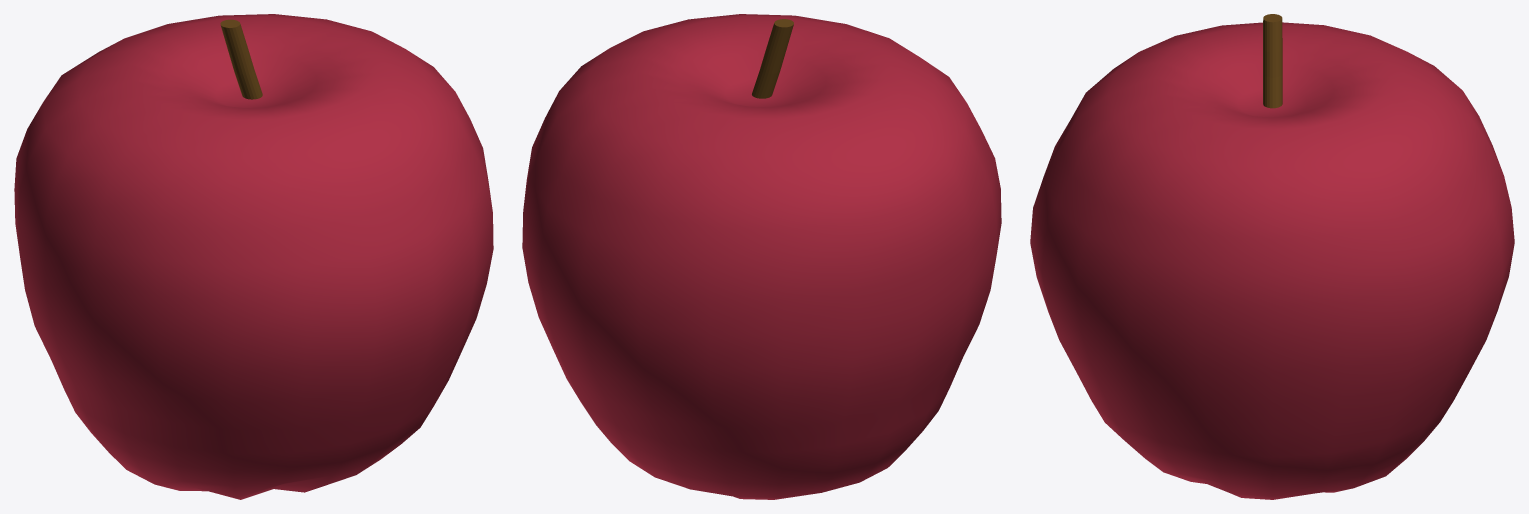
File: Apple_fbx.fbx
3 renders of one model, left to right at view 1: azimuth 30°, elevation 25°; view 2: azimuth 150°, elevation 25°; view 3: azimuth 270°, elevation 25°, orthographic. The views are drawn at different scales.
Visible parts, largest first — view 1: pSphere1; view 2: pSphere1; view 3: pSphere1.
Boxes of the visible parts, <box> form: pSphere1: <box>14,14,493,499</box>; pSphere1: <box>522,14,1001,499</box>; pSphere1: <box>1030,14,1514,499</box>.
Bounding box in the file's own units: 13.99 × 14.22 × 14.43.
